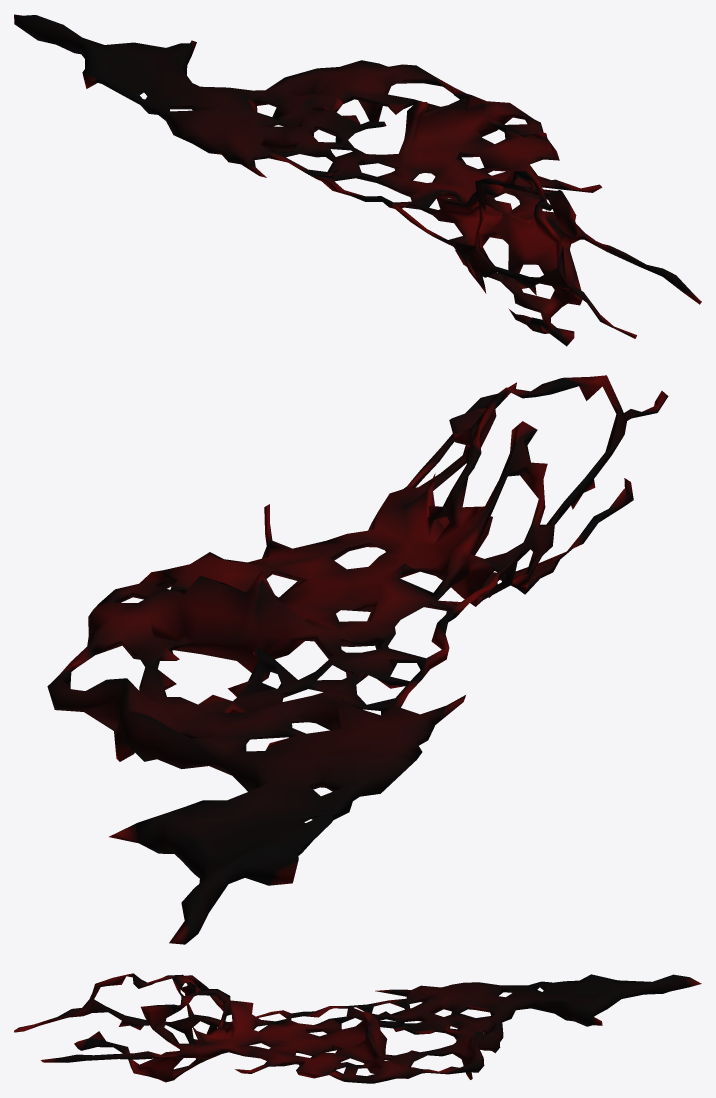
The model's file is SM_VFX_Slash.fbx.
3 renders of one model, top to bottom at view 1: azimuth 30°, elevation 25°; view 2: azimuth 150°, elevation 25°; view 3: azimuth 270°, elevation 25°, orthographic. The views are drawn at different scales.
Parts seen in each view (by area): view 1: SM_VFX_Slash; view 2: SM_VFX_Slash; view 3: SM_VFX_Slash.
Boxes of the visible parts, x1,y1,x2,y2 form: SM_VFX_Slash: (14, 14, 701, 346); SM_VFX_Slash: (47, 375, 668, 944); SM_VFX_Slash: (14, 973, 701, 1083).
Bounding box in the file's own units: 57.27 × 26.76 × 163.
